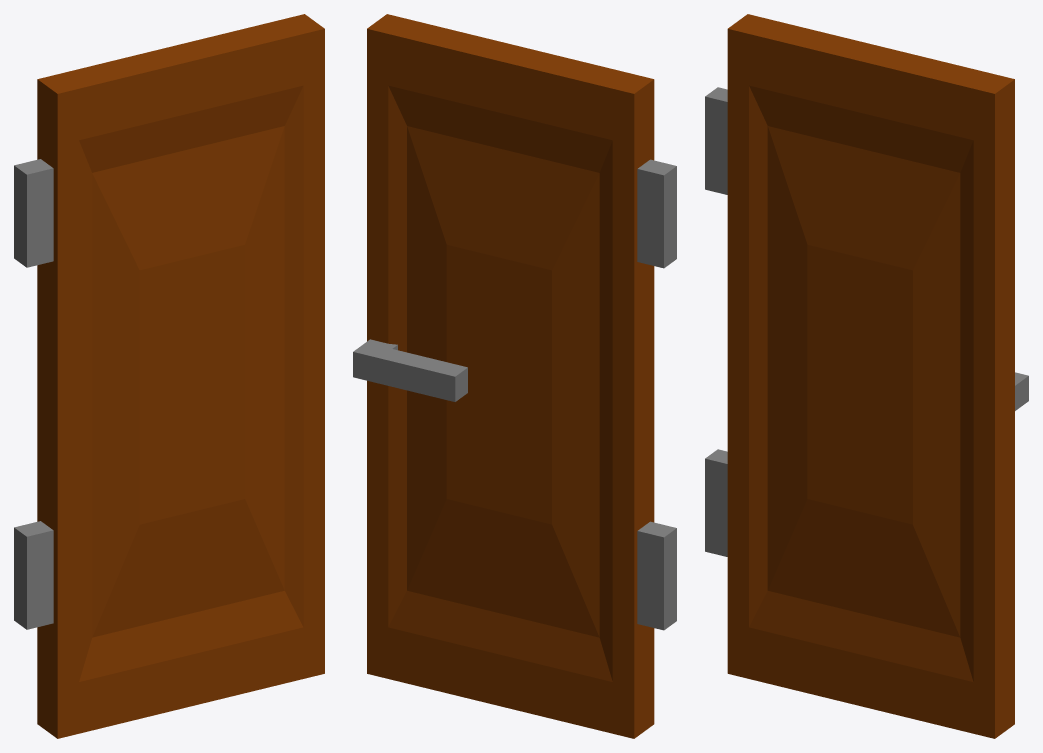
File: ovi.FBX
The picture shows the model from 3 angles, left to right: view 1: azimuth 30°, elevation 25°; view 2: azimuth 150°, elevation 25°; view 3: azimuth 330°, elevation 25°; orthographic projection.
Parts seen in each view (by area): view 1: Ovi; view 2: Ovi; view 3: Ovi.
Boxes of the visible parts, bbox=[...] form: Ovi: bbox=[14, 14, 324, 738]; Ovi: bbox=[353, 14, 676, 738]; Ovi: bbox=[705, 14, 1028, 738].
Size of the model in its own units: 172 by 360 by 38.79.
